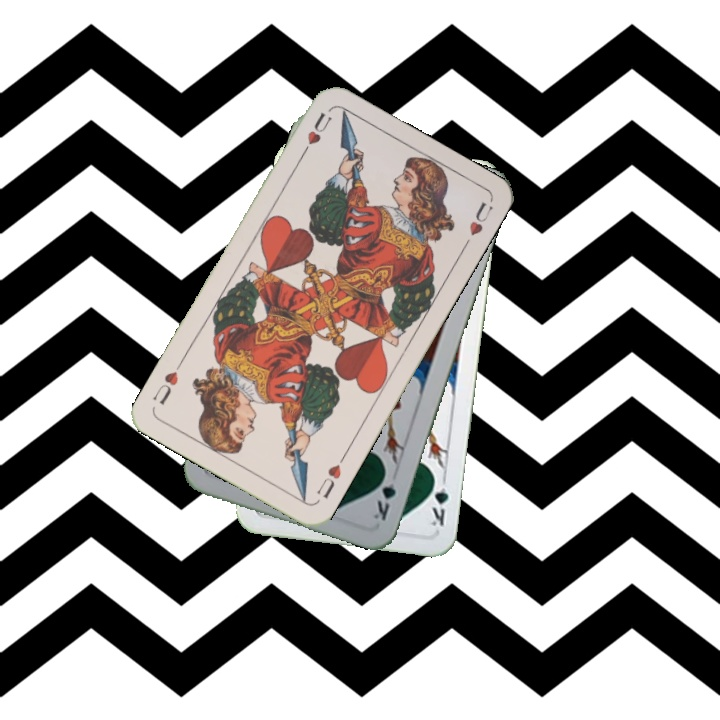GK: (369, 465, 400, 524), (426, 471, 451, 529)
HU: (296, 108, 335, 160), (312, 450, 349, 502)
